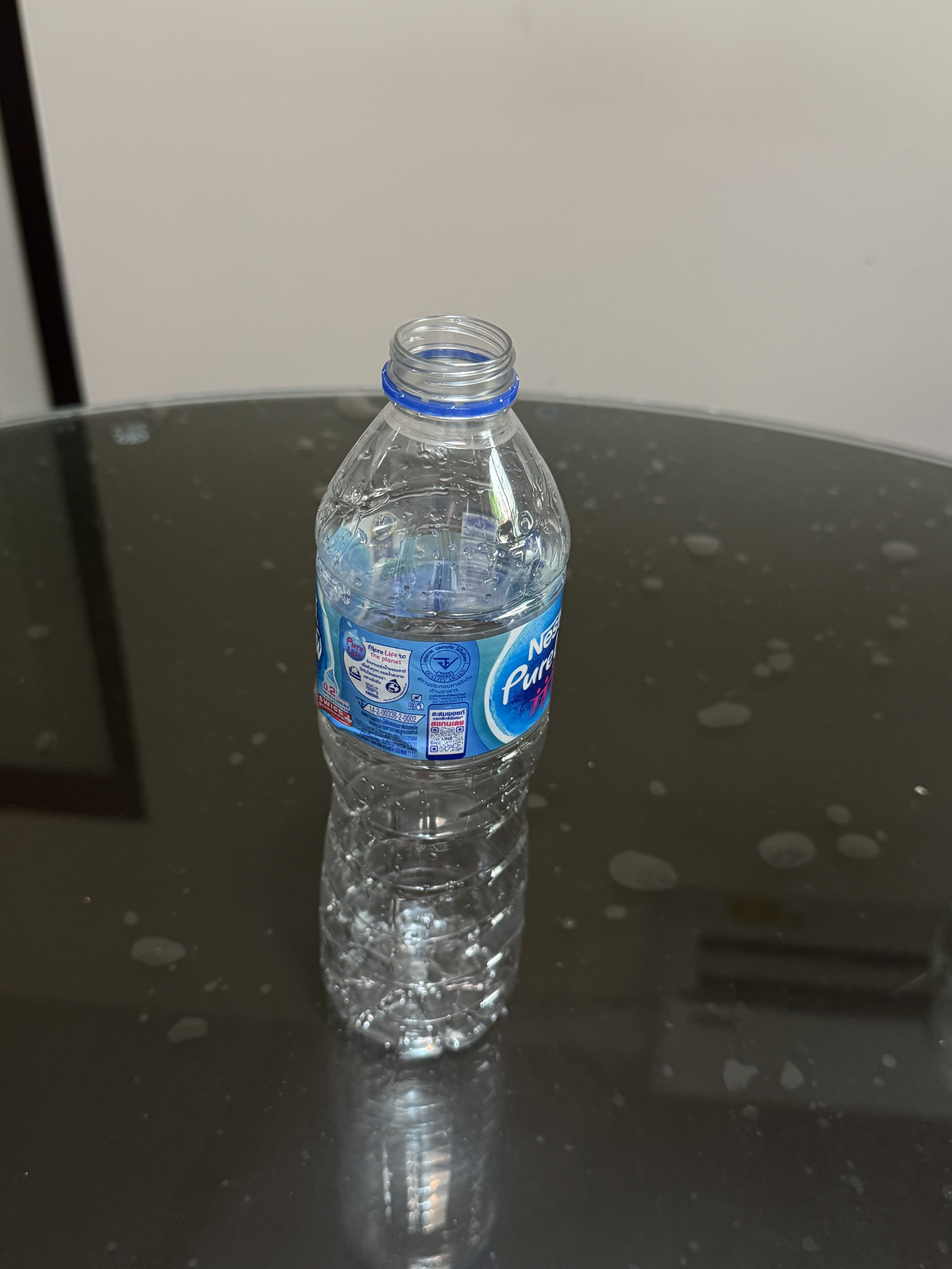no_cap: (376, 310, 524, 426)
